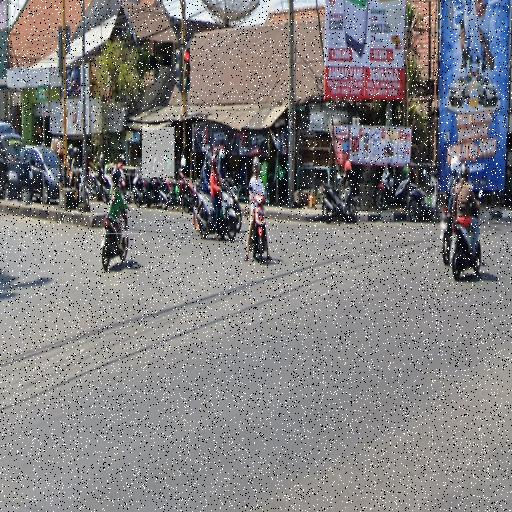Helmet: (451, 155, 460, 174), (112, 168, 120, 186), (460, 164, 469, 179), (253, 157, 260, 170), (345, 160, 352, 173), (404, 166, 410, 178), (180, 156, 186, 168), (206, 151, 211, 165), (212, 154, 218, 165), (73, 147, 79, 156), (219, 149, 225, 158), (68, 145, 73, 155), (121, 154, 125, 165), (214, 147, 218, 155), (100, 154, 103, 164), (164, 154, 167, 162)
Motor: (451, 220, 481, 281), (322, 173, 357, 223), (409, 170, 440, 222), (376, 166, 410, 210), (101, 215, 128, 270), (223, 178, 242, 232), (251, 195, 266, 263), (193, 193, 215, 239), (133, 174, 159, 207), (157, 177, 179, 210), (440, 205, 452, 265), (178, 171, 195, 213), (88, 167, 101, 200), (100, 167, 112, 202)
